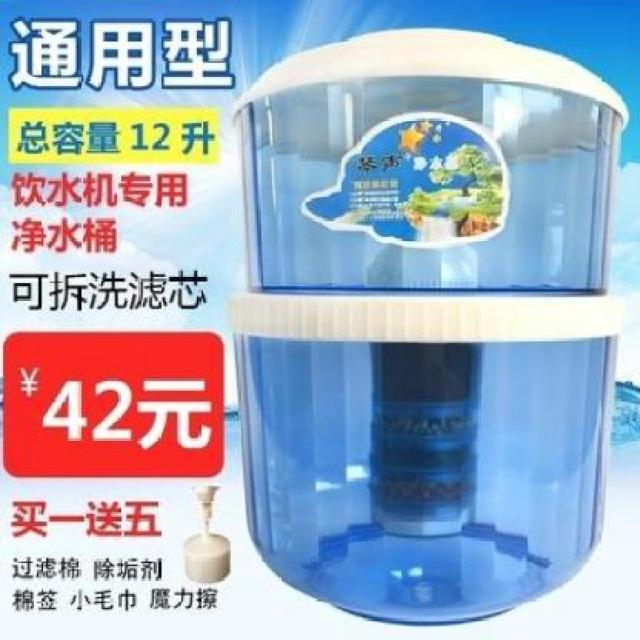coolerbottle: (228, 24, 633, 628)
